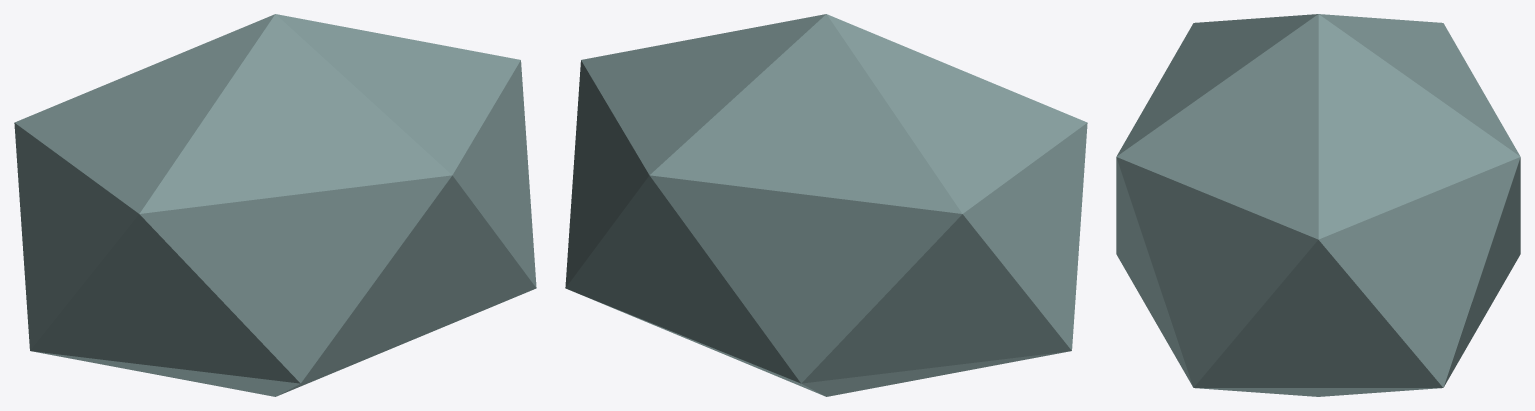
File: reef.glb
3 views of the same model, side by side, from view 1: azimuth 30°, elevation 25°; view 2: azimuth 150°, elevation 25°; view 3: azimuth 270°, elevation 25° (orthographic).
Parts seen in each view (by area): view 1: Reef; view 2: Reef; view 3: Reef.
Part boxes in pixels (box(x1,y1,x2,y2)): Reef: box(14, 14, 536, 396); Reef: box(565, 14, 1087, 396); Reef: box(1116, 14, 1520, 396).
Bounding box in the file's own units: 2.15 × 1.6 × 1.53.
